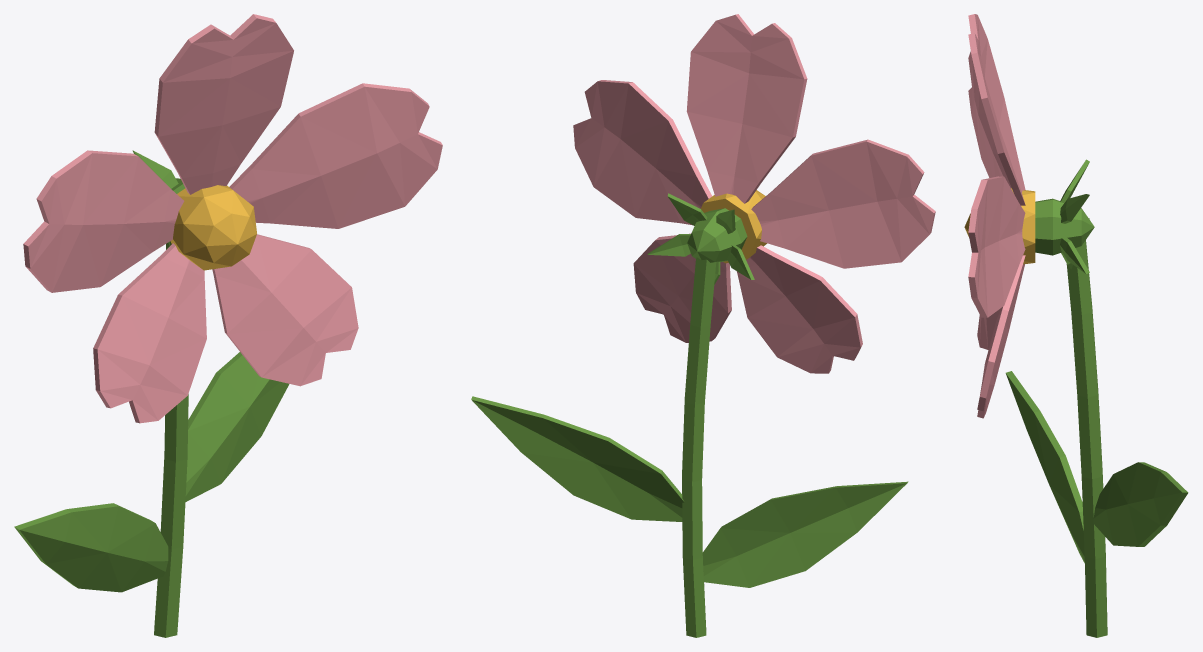
File: KANJI_15_HANA.fbx
3 views of the same model, side by side, from view 1: azimuth 30°, elevation 25°; view 2: azimuth 150°, elevation 25°; view 3: azimuth 270°, elevation 25° (orthographic). The views are drawn at different scales.
Visible parts, largest first — view 1: SM_KANJI_15_Hana; view 2: SM_KANJI_15_Hana; view 3: SM_KANJI_15_Hana.
Boxes of the visible parts, box(x1,y1,x2,y2) form: SM_KANJI_15_Hana: box(14, 14, 442, 637); SM_KANJI_15_Hana: box(471, 14, 935, 637); SM_KANJI_15_Hana: box(964, 14, 1188, 637).
Size of the model in its own units: 0.2 by 0.3 by 0.1.
